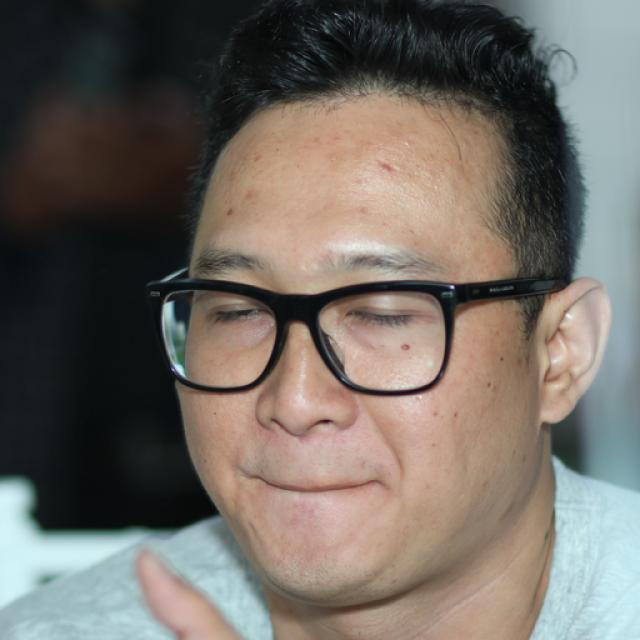Acne: (397, 338, 417, 356), (378, 161, 394, 178)
